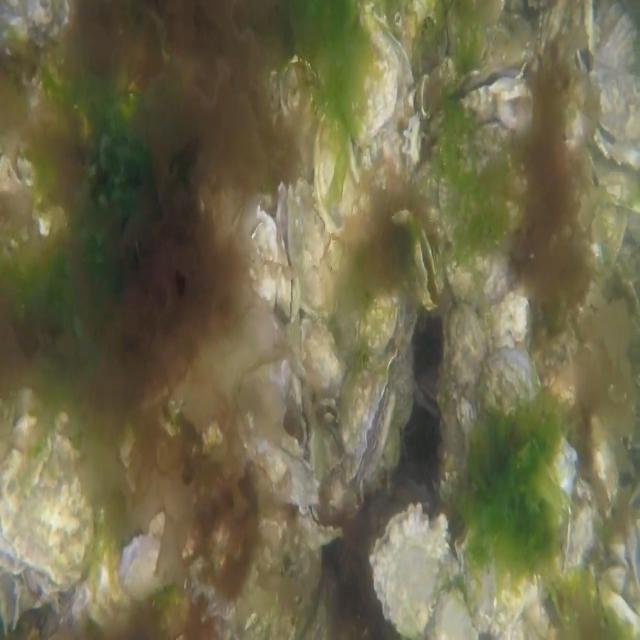Oyster-Closed: (454, 518, 542, 640), (343, 351, 399, 485), (238, 426, 320, 514), (299, 502, 344, 555)
Oyster-Indeterminate: (0, 413, 95, 591), (472, 345, 578, 502), (369, 504, 450, 639), (343, 0, 399, 151), (444, 302, 489, 466), (314, 113, 368, 237), (294, 176, 336, 318), (357, 284, 418, 368), (299, 316, 346, 413), (442, 240, 513, 304)
Oyster-Open: (448, 64, 536, 158), (587, 15, 640, 165), (242, 207, 278, 312), (275, 182, 299, 322), (414, 227, 444, 312), (573, 0, 595, 75)
